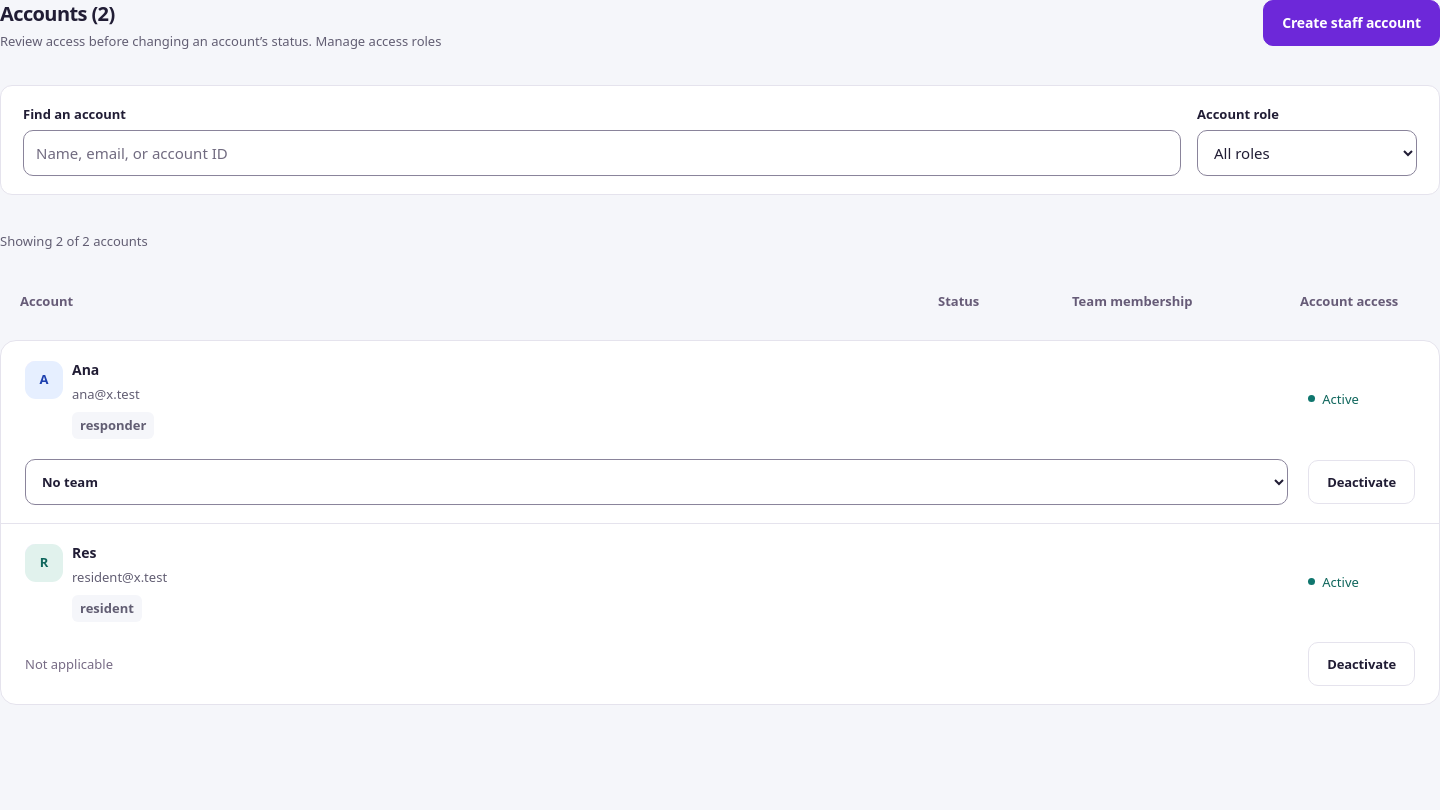
Test: UsersPage team assignment (F03) › a responder without a team can be linked to one, through the API
This screenshot has width=1440, height=810.
Select "Team A" in the dropdown named "Team for Ana": x=657, y=482 [25,459,1288,505]
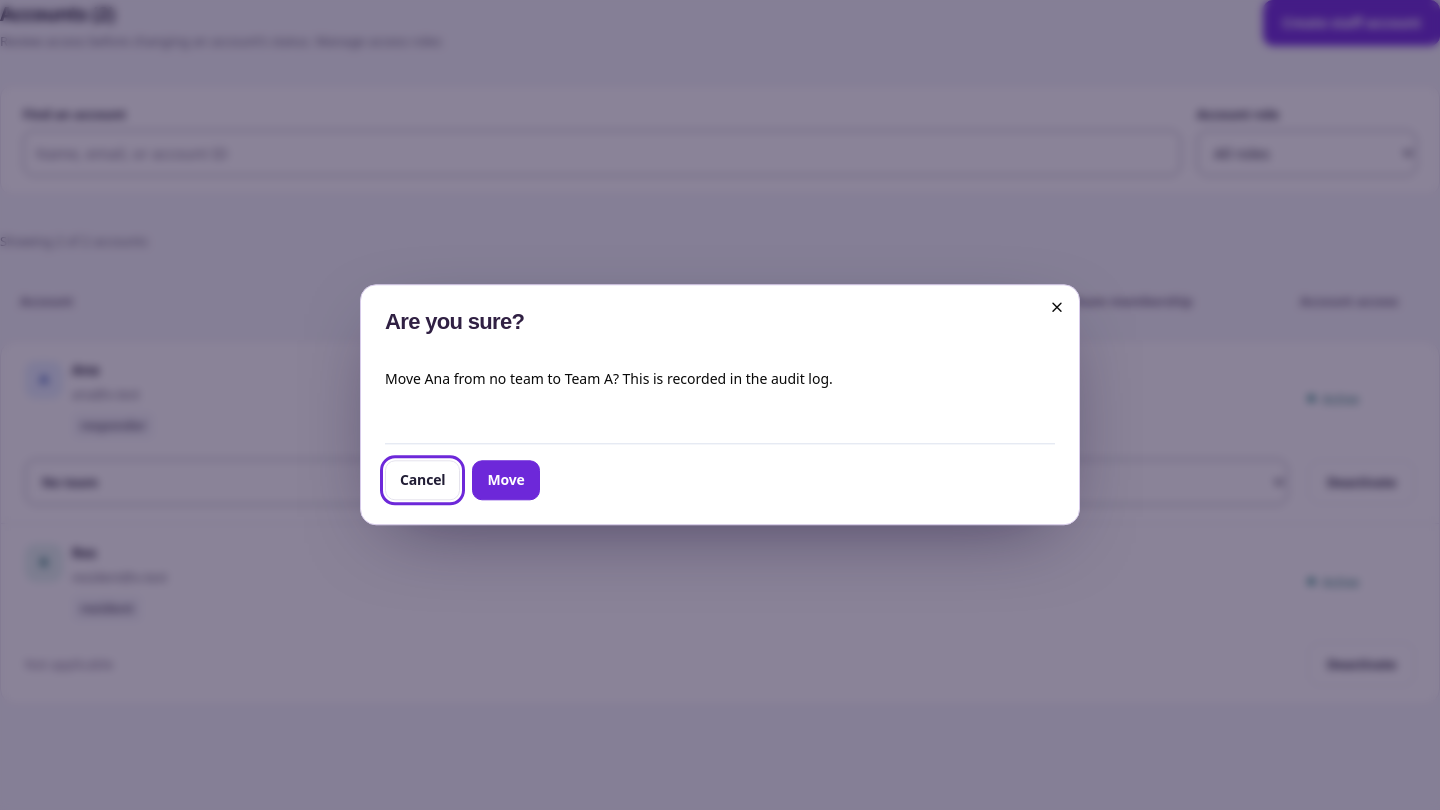
Expected: the heading "Are you sure?" is shown, [385,309,524,334]
Click the button "Move": x=506, y=481 [472,461,540,501]
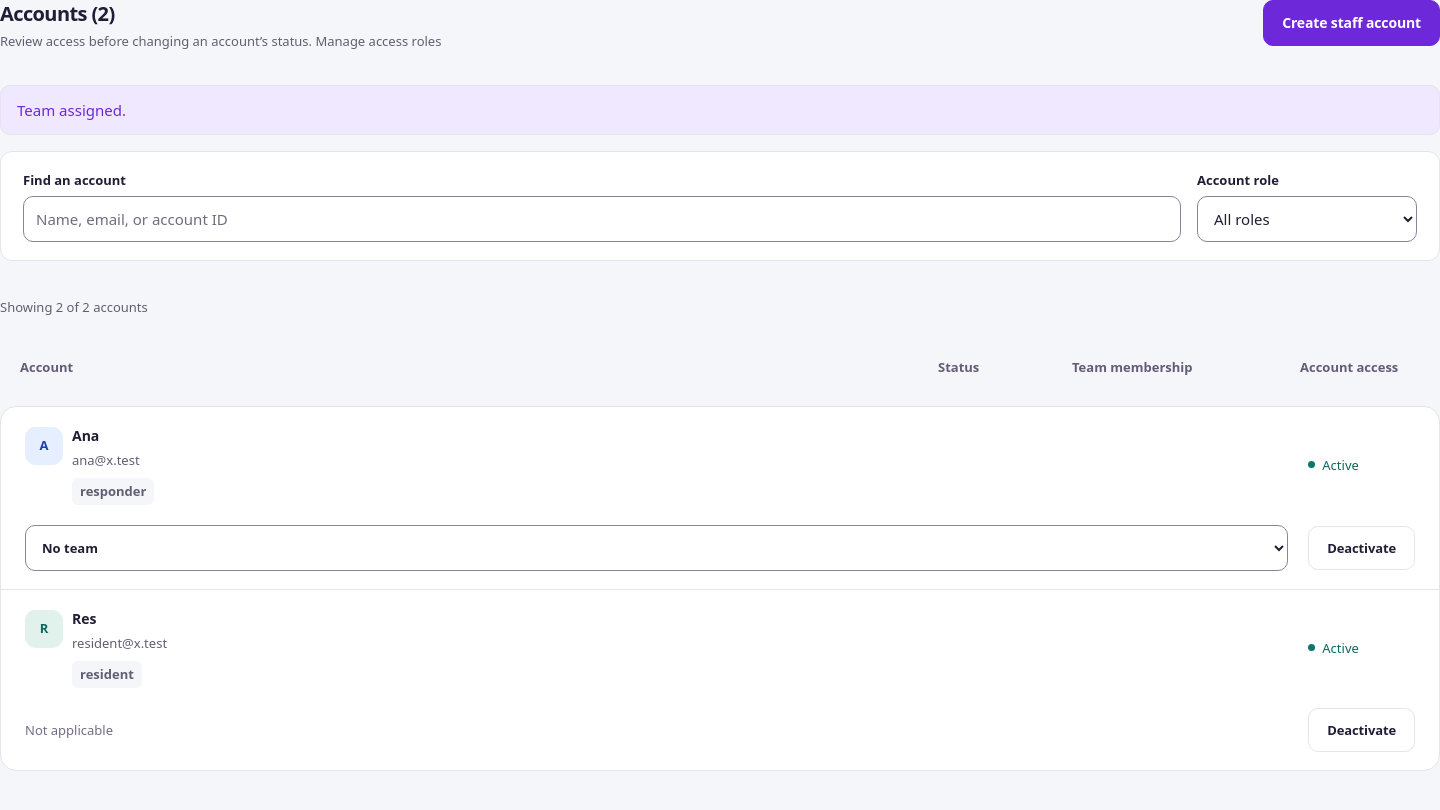
Expected: the text "Team assigned." is shown, [0,85,1439,135]
